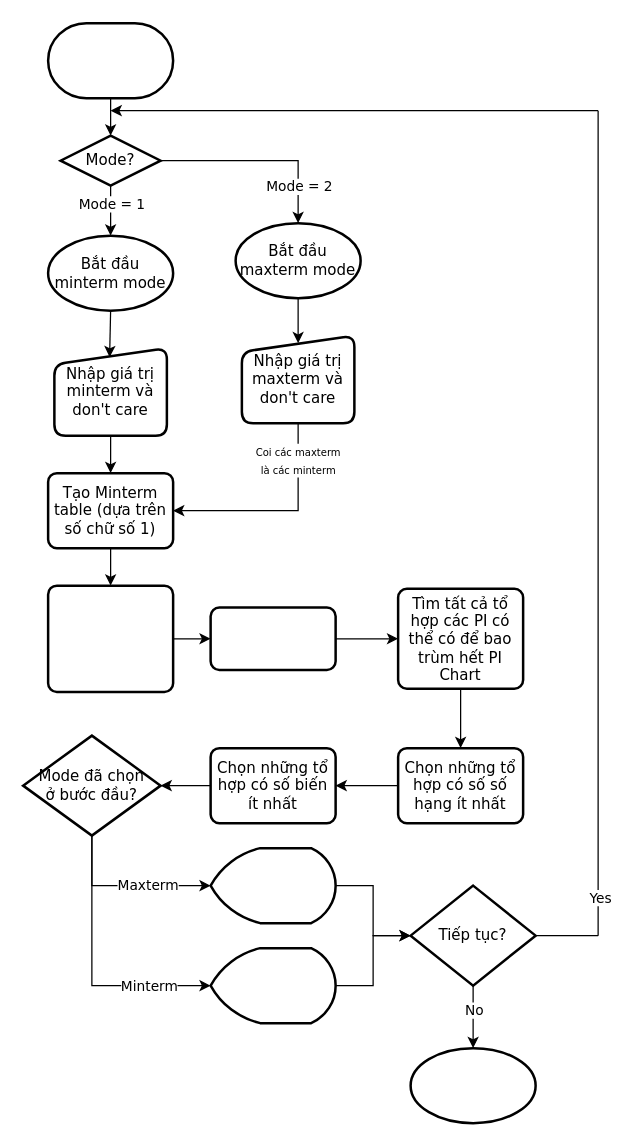
This 633x1145 diagram has some shape labels left out. Each missing label, with the centre of its shape:
"Bắt đầu" belongs at point 110,60.
"Hiển thị POS" belongs at point 272,885.
"Hiển thị SOP" belongs at point 272,985.
"Kết thúc" belongs at point 472,1085.
"Tạo Prime Implicant Chart" belongs at point 272,638.
"Tổng hợp các minterm theo từng cặp (khác nhau duy nhất 1 bit)" belongs at point 110,638.
